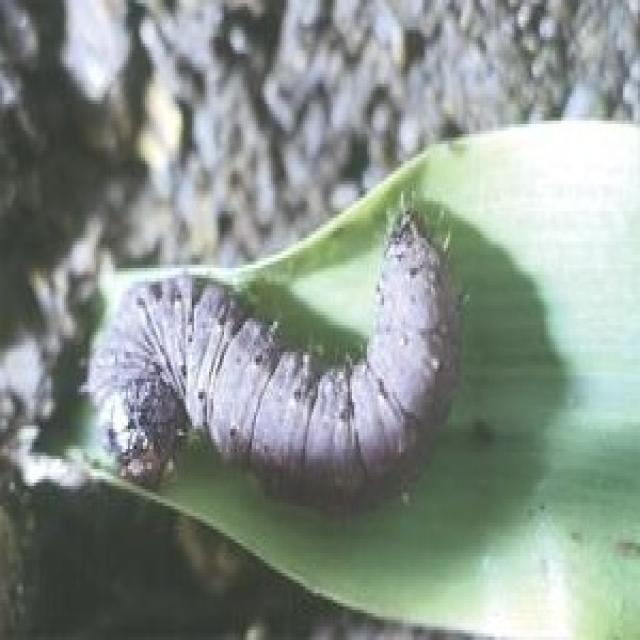black cutworm: (89, 210, 468, 502)
